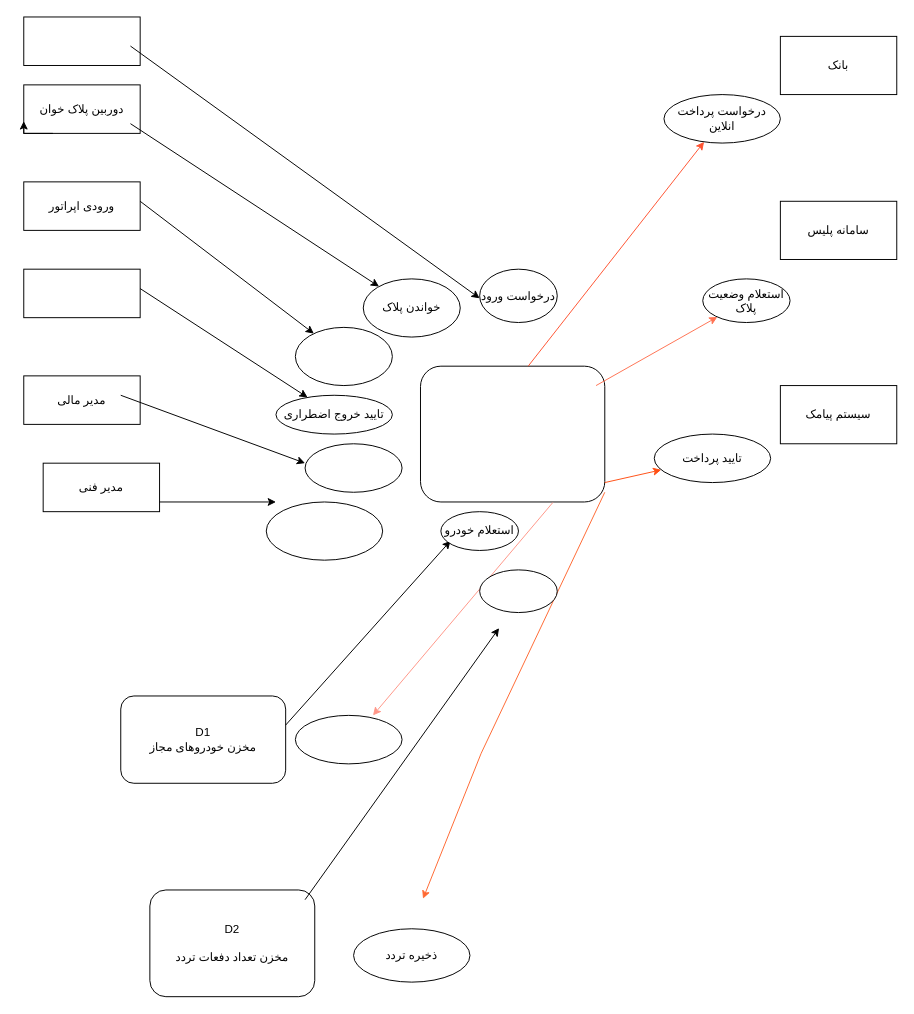
Image size: 914x1014. Some labels were removed from this diagram. The shapes that lost their labels are listed below. From the top down, each one's centre as x and y in pixels, then its label:
pixel 81 40: راننده
pixel 81 293: اپراتور خروجی
pixel 343 356: تایید ورود
pixel 512 433: سیستم یکپارچه مدیریت ورود وخروج وگزارش خودرو
pixel 353 467: درخواست گزارش مالی
pixel 324 530: درخواست گزارش فنی
pixel 518 591: ذخیره جلسات تردد
pixel 348 739: نتیجه استعلام
